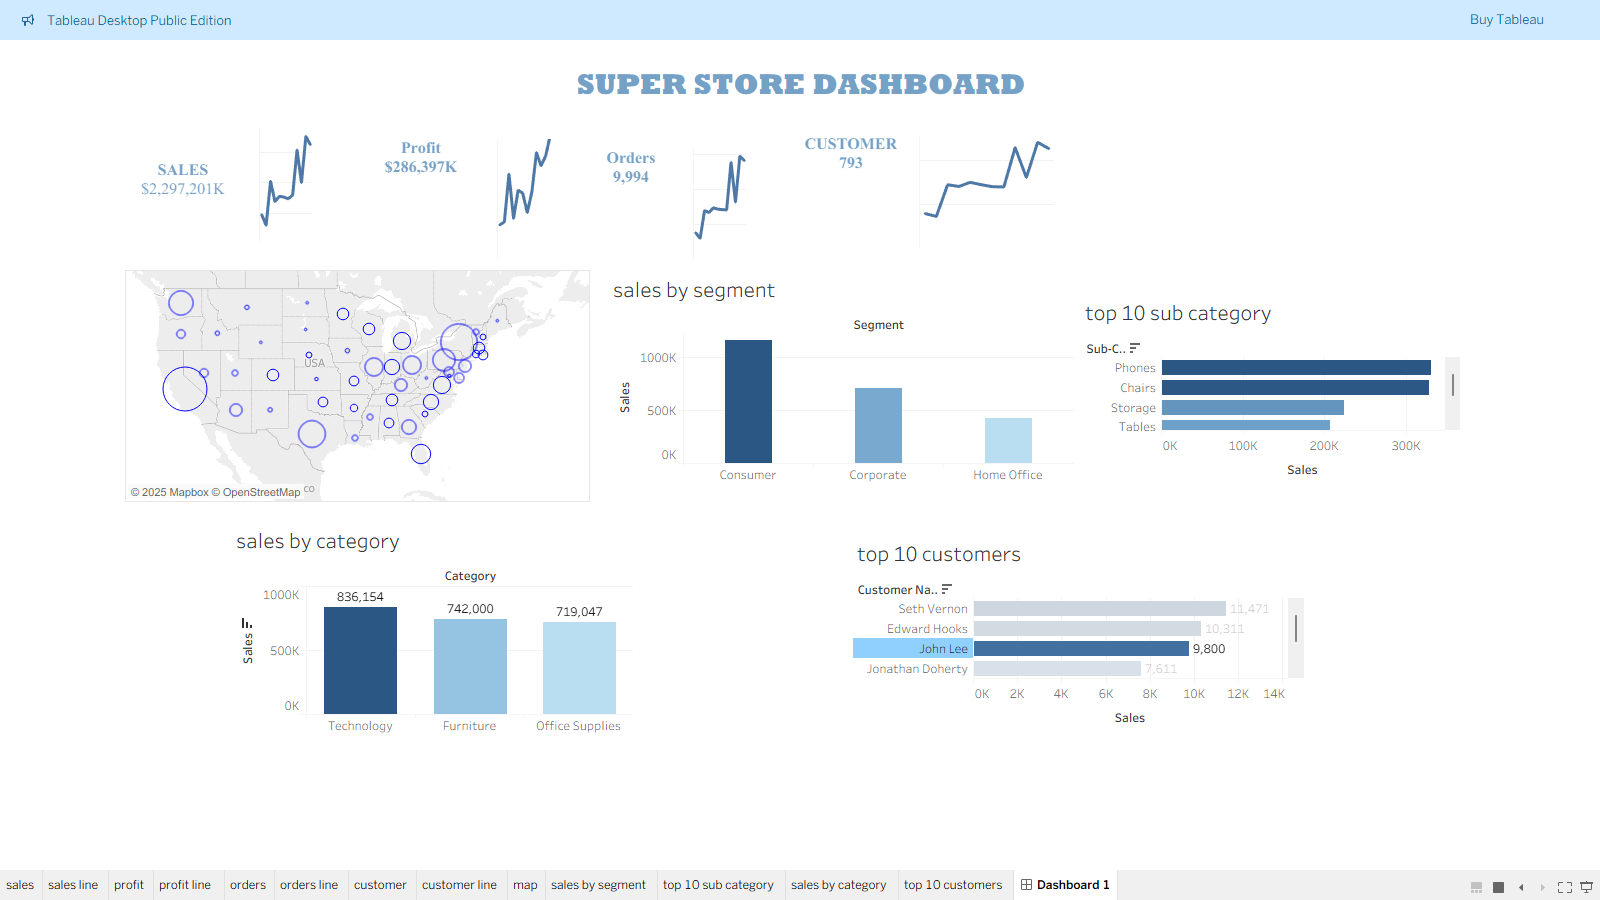

The dashboard page shown, as its layout file describes it:
{"tool":"tableau","page":{"name":"Dashboard 1","canvas":[1000,1000],"units":"permille","ordinal":0},"visuals":[{"type":"text","box":[108.5,2.6,784.4,102.6]},{"type":"worksheet","title":"sales","mark":"Automatic","box":[29.9,88.2,99.8,164.5]},{"type":"worksheet","title":"sales line","mark":"Automatic","rows":["Sales"],"cols":["Order Date"],"box":[129.6,88.2,44.4,164.5]},{"type":"worksheet","title":"profit","mark":"Automatic","box":[220.7,89.5,91.8,159.2]},{"type":"worksheet","title":"profit line ","mark":"Automatic","rows":["Profit"],"cols":["Order Date"],"box":[312.4,89.5,45.9,159.2]},{"type":"worksheet","title":"orders","mark":"Automatic","box":[377.3,90.8,80.9,130.3]},{"type":"worksheet","title":"orders line","mark":"Automatic","rows":["Orders_5D67D090CA1141EBA814A09E5A55E4F8"],"cols":["Order Date"],"box":[458.1,90.8,44.4,130.3]},{"type":"worksheet","title":"customer","mark":"Automatic","box":[540.4,90.8,93.2,117.1]},{"type":"worksheet","title":"customer line","mark":"Automatic","rows":["Customer ID"],"cols":["Order Date"],"box":[633.6,90.8,104.2,117.1]},{"type":"worksheet","title":"map","mark":"Automatic","box":[21.9,272.4,332.9,289.5]},{"type":"worksheet","title":"sales by segment","mark":"Automatic","rows":["Sales"],"cols":["Segment"],"box":[362.7,273.7,332.9,289.5]},{"type":"worksheet","title":"top 10 sub category","mark":"Automatic","rows":["Sub-Category"],"cols":["Sales"],"box":[694.8,301.3,273.1,239.5]},{"type":"worksheet","title":"sales by category","mark":"Automatic","rows":["Sales"],"cols":["Category"],"box":[96.9,576.3,288.4,289.5]},{"type":"worksheet","title":"top 10 customers","mark":"Automatic","rows":["Customer Name"],"cols":["Sales"],"box":[534.6,592.1,323.4,248.7]}]}

Visuals, with their boxes on the dashboard's canvas, which has no fixed pixel size, in thousandths of its width and height (x1, y1, x2, y2). These are canvas units, not pixel positions in the 1600x900 screenshot, which may show the page scaled, cropped or inside an application window:
text: detection(108, 3, 893, 105)
"sales" worksheet: detection(30, 88, 130, 253)
"sales line" worksheet: detection(130, 88, 174, 253)
"profit" worksheet: detection(221, 90, 312, 249)
"profit line " worksheet: detection(312, 90, 358, 249)
"orders" worksheet: detection(377, 91, 458, 221)
"orders line" worksheet: detection(458, 91, 502, 221)
"customer" worksheet: detection(540, 91, 634, 208)
"customer line" worksheet: detection(634, 91, 738, 208)
"map" worksheet: detection(22, 272, 355, 562)
"sales by segment" worksheet: detection(363, 274, 696, 563)
"top 10 sub category" worksheet: detection(695, 301, 968, 541)
"sales by category" worksheet: detection(97, 576, 385, 866)
"top 10 customers" worksheet: detection(535, 592, 858, 841)
